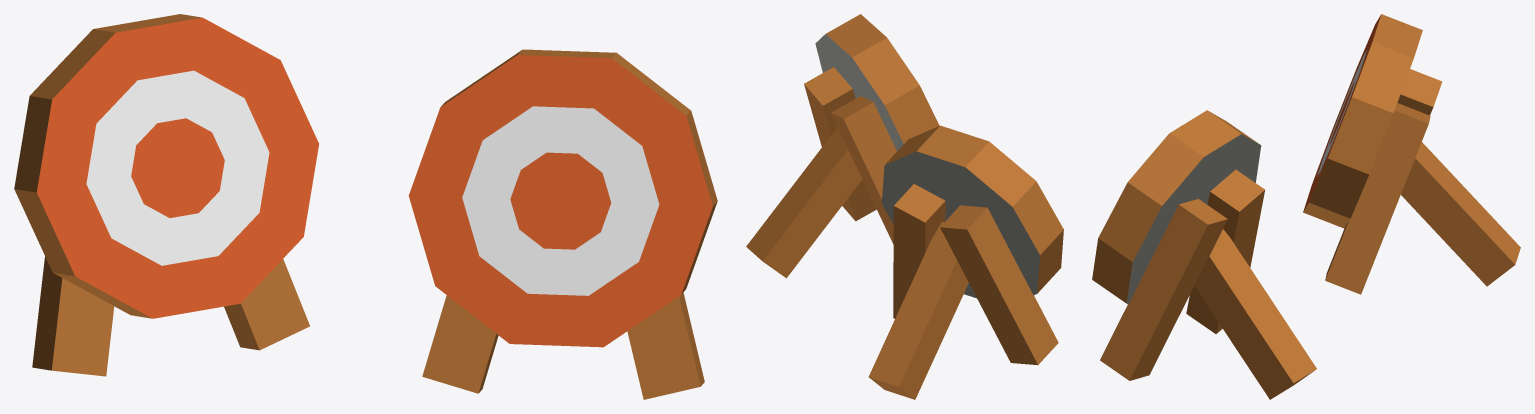
File: targets.fbx
The picture shows the model from 3 angles, left to right: view 1: azimuth 30°, elevation 25°; view 2: azimuth 150°, elevation 25°; view 3: azimuth 270°, elevation 25°; orthographic projection. The views are drawn at different scales.
Parts seen in each view (by area): view 1: targets; view 2: targets; view 3: targets.
Part boxes in pixels (x1=…): targets: x1=14, y1=14, x2=717, y2=399; targets: x1=746, y1=14, x2=1063, y2=399; targets: x1=1092, y1=14, x2=1520, y2=399.
Size of the model in its own units: 106 by 66.03 by 105.
